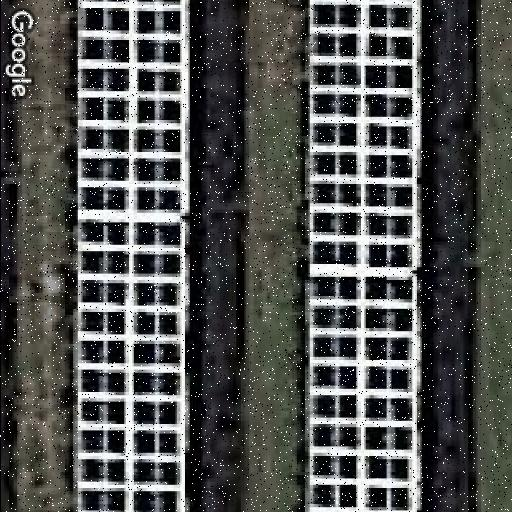solar-panel: (72, 0, 186, 512), (306, 0, 420, 512)
